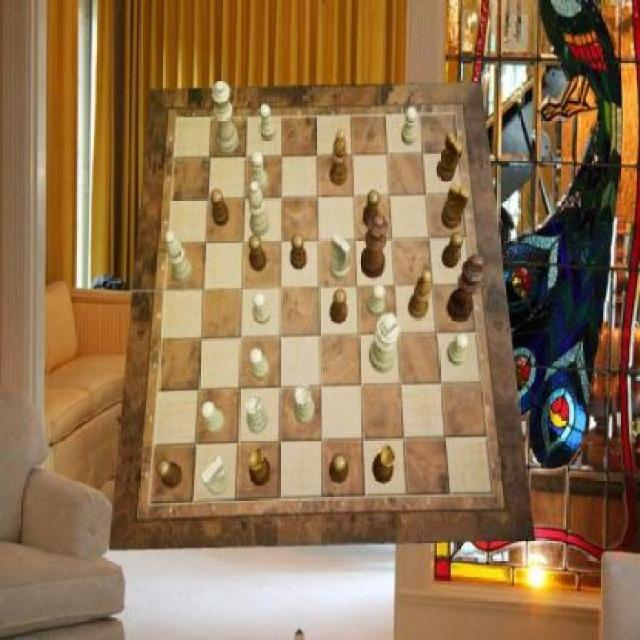bishop: (408, 271, 432, 320), (331, 129, 348, 187)
black-bishop: (448, 255, 485, 323)
black-king: (442, 183, 471, 231), (437, 132, 463, 182)
black-knight: (441, 232, 464, 268), (157, 458, 183, 489), (363, 189, 380, 228), (249, 236, 267, 272), (290, 234, 308, 270), (210, 190, 228, 226), (329, 454, 349, 484), (331, 289, 348, 324)
black-pawn: (360, 212, 388, 278)
black-queen: (374, 446, 397, 485), (248, 448, 270, 486)
black-rook: (166, 230, 194, 284), (249, 182, 269, 238)
white-bishop: (369, 314, 400, 374)
white-king: (202, 457, 228, 497), (331, 234, 351, 280)
white-knight: (202, 402, 226, 436), (446, 332, 469, 366), (250, 152, 268, 191), (260, 103, 277, 141), (249, 348, 269, 380), (402, 108, 418, 146), (368, 283, 385, 317), (254, 292, 271, 325)
white-pawn: (212, 80, 240, 155)
white-queen: (246, 394, 269, 434), (294, 384, 314, 424)
